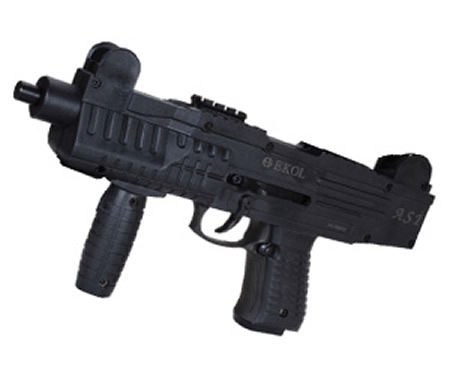rifle: (11, 25, 441, 335)
